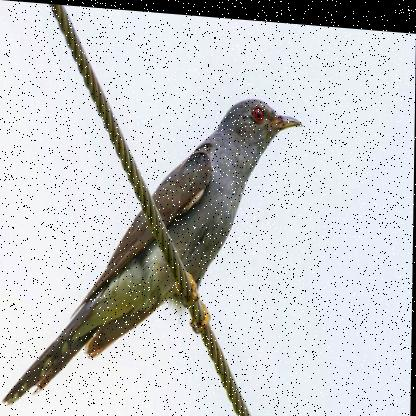Burung: (2, 77, 303, 415)
